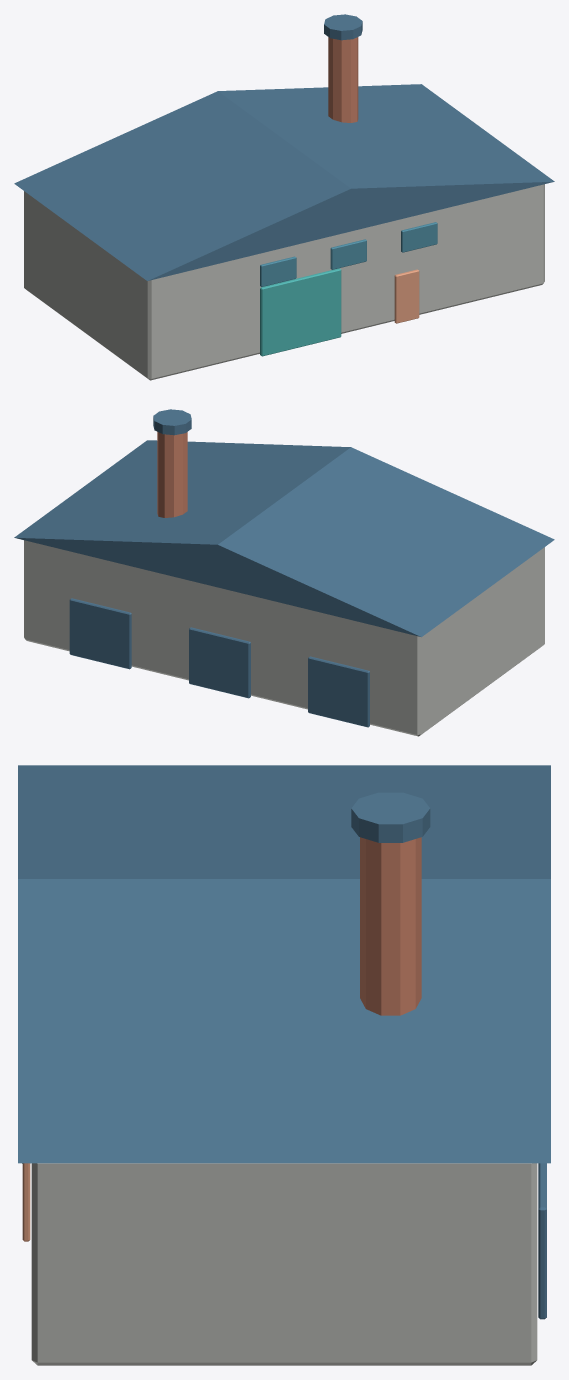
Rendered from IND_LOW_3x2_002.glb.
3 renders of one model, top to bottom at view 1: azimuth 30°, elevation 25°; view 2: azimuth 150°, elevation 25°; view 3: azimuth 270°, elevation 25°, orthographic. The views are drawn at different scales.
Visible parts, largest first — view 1: IND_LOW_3x2_002_Visual; view 2: IND_LOW_3x2_002_Visual; view 3: IND_LOW_3x2_002_Visual.
Part boxes in pixels (x1,y1,x2,y2): IND_LOW_3x2_002_Visual: (14,14,554,380); IND_LOW_3x2_002_Visual: (14,409,554,736); IND_LOW_3x2_002_Visual: (18,765,550,1365).
Size of what is drawn, in the model's own units: 5.49 by 2.89 by 3.11.
